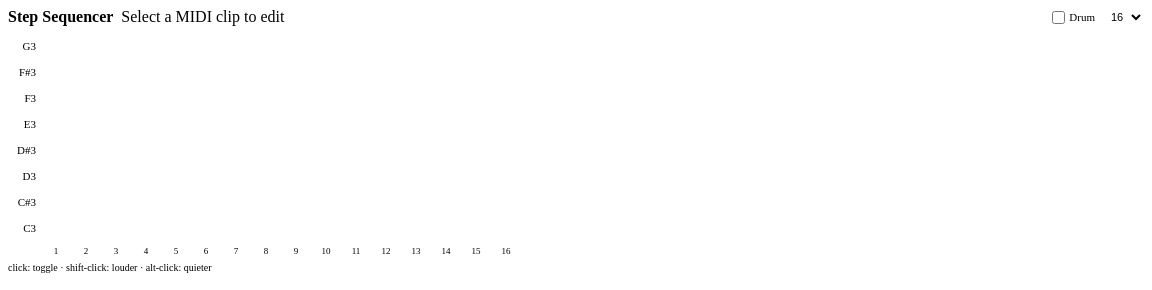
StepSequencer › label modes › toggles to drum labels when checkbox is checked
The image size is (1152, 290).
Click the checkbox at (1059, 17), box left=1052, top=10, right=1065, bottom=24
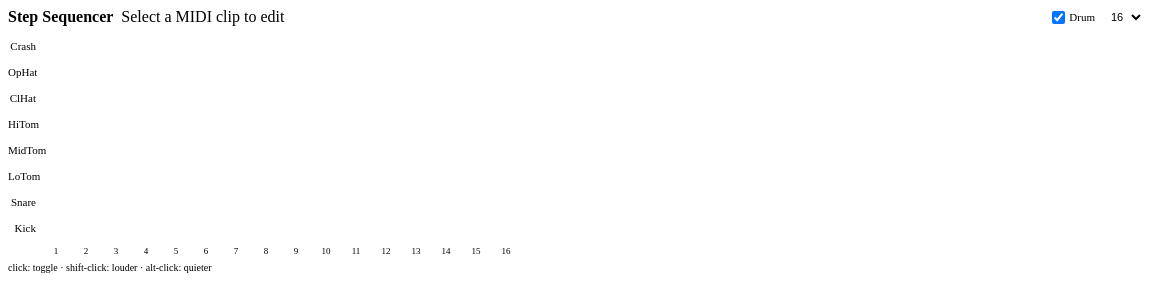
Expected: the text "Kick" is shown, left=15, top=222, right=36, bottom=234
Expected: the text "Snare" is shown, left=11, top=196, right=36, bottom=208
Expected: the text "Crash" is shown, left=10, top=40, right=36, bottom=52
